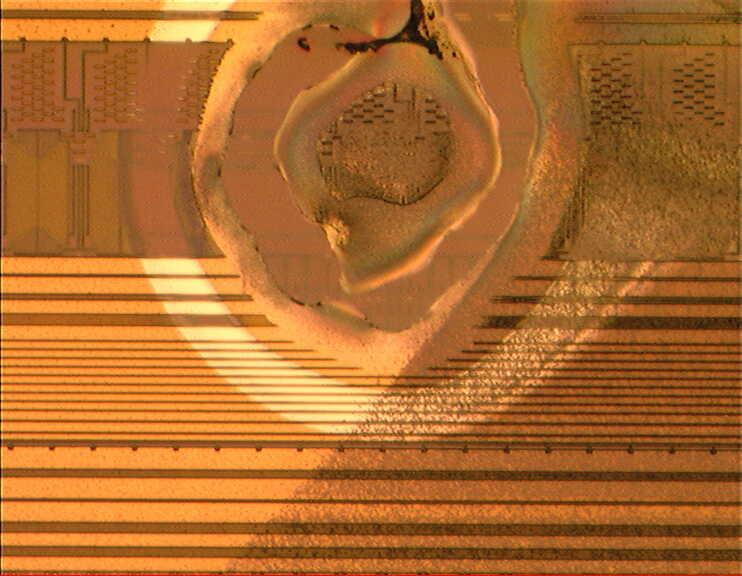BLOCK ETCH: (131, 1, 742, 576)
